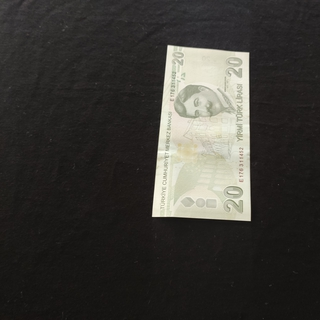20TLBack: (151, 44, 251, 227)
